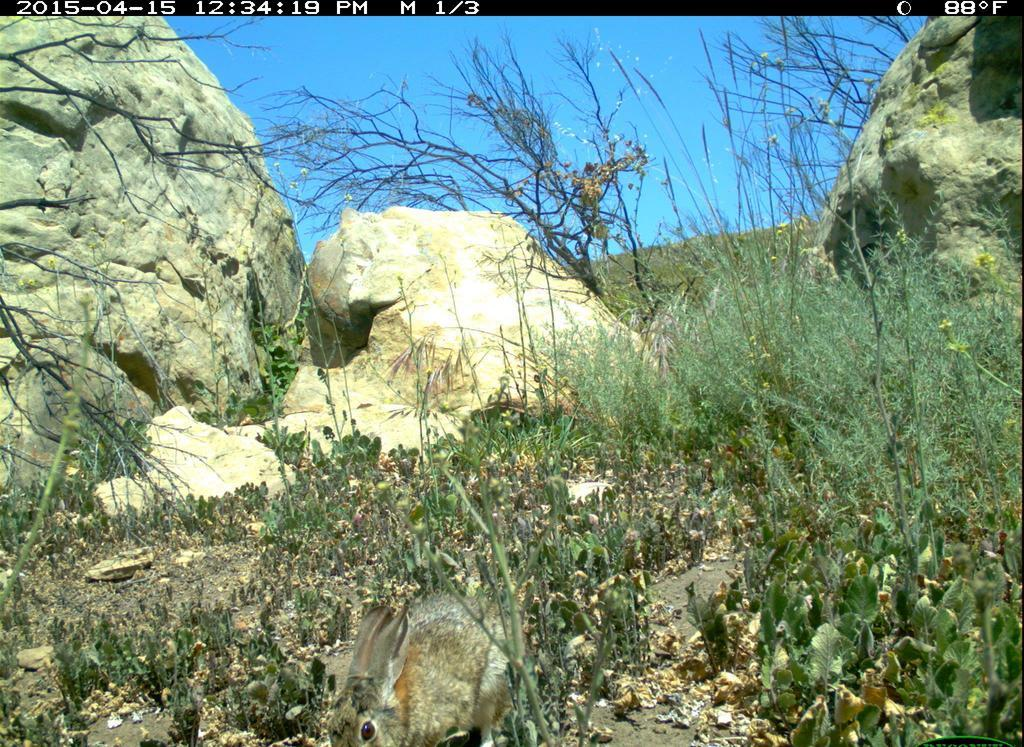rabbit: (323, 597, 521, 740)
